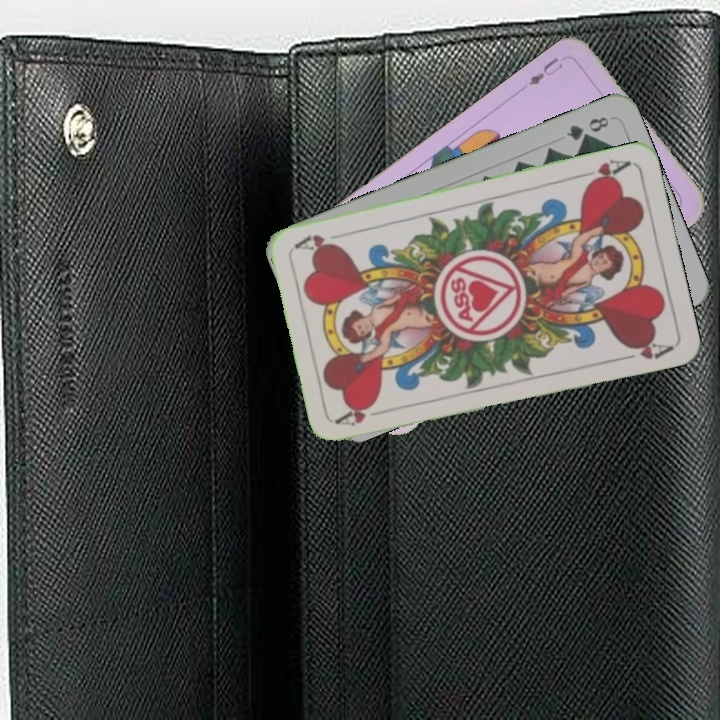EU: (524, 53, 566, 88)
G8: (562, 112, 612, 143)
HA: (575, 154, 633, 188), (333, 400, 392, 429)
